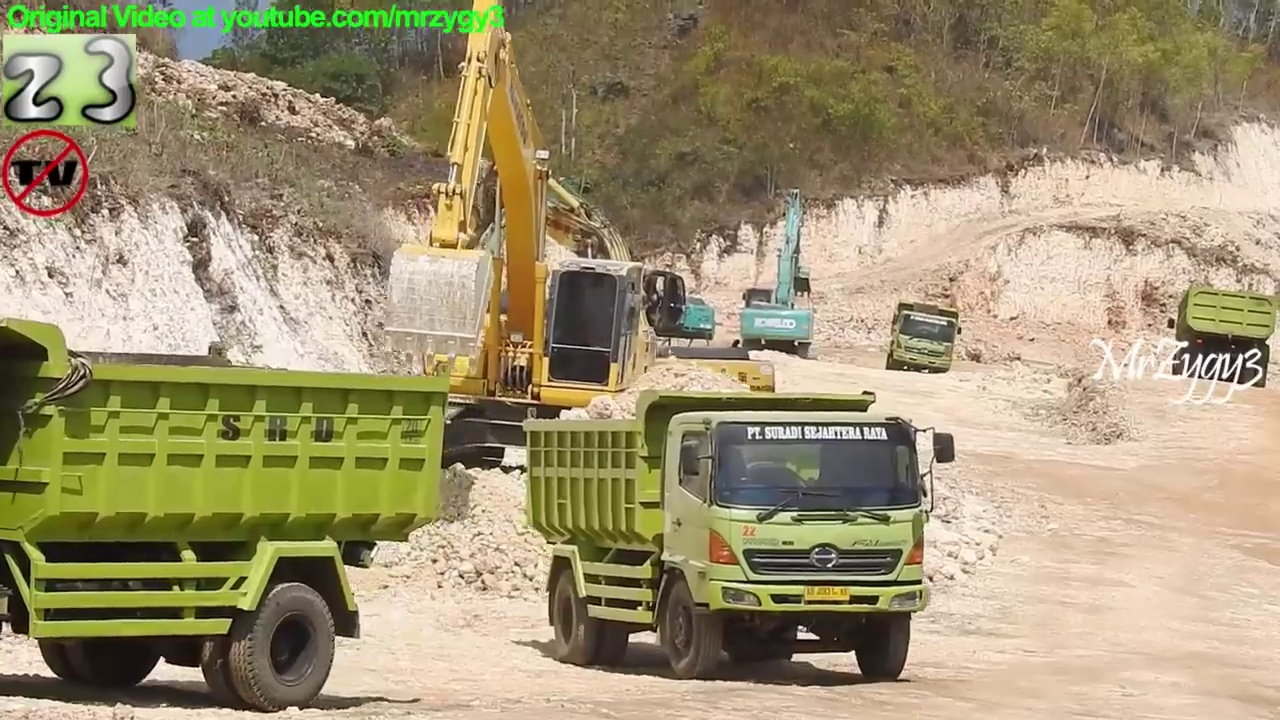excavator: (343, 1, 699, 492), (405, 145, 784, 474), (465, 165, 726, 385), (734, 182, 824, 367)
truck: (1, 314, 451, 716), (520, 382, 961, 688), (1161, 281, 1280, 392), (881, 298, 965, 379)
